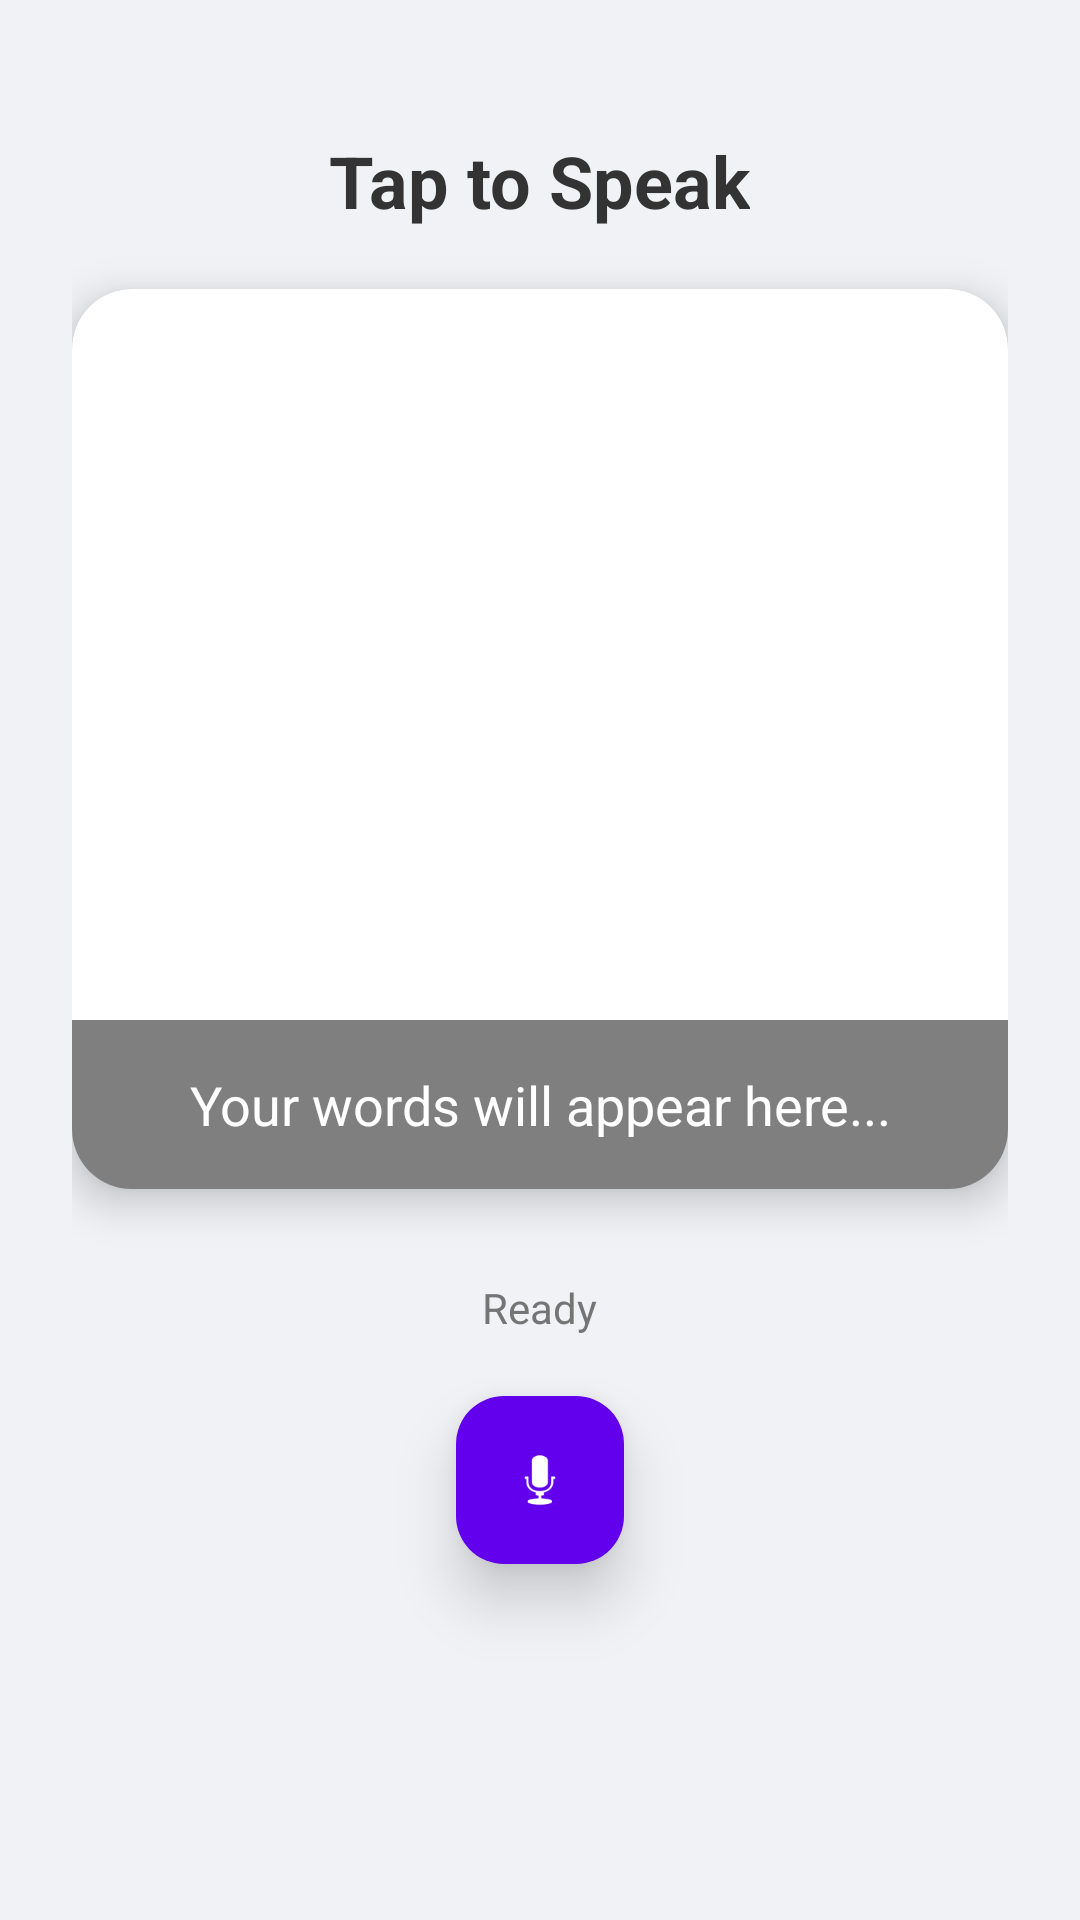

Icon bounding boxes for this 1080w x 1920h phone screenshot, format (x1, y1, x2, y2):
speak now: (456, 1396, 624, 1564)
